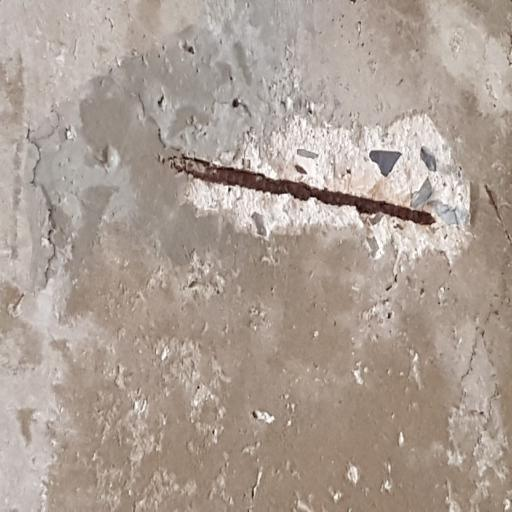exposed_rebar: (169, 156, 435, 226)
spalling: (160, 114, 470, 262)
